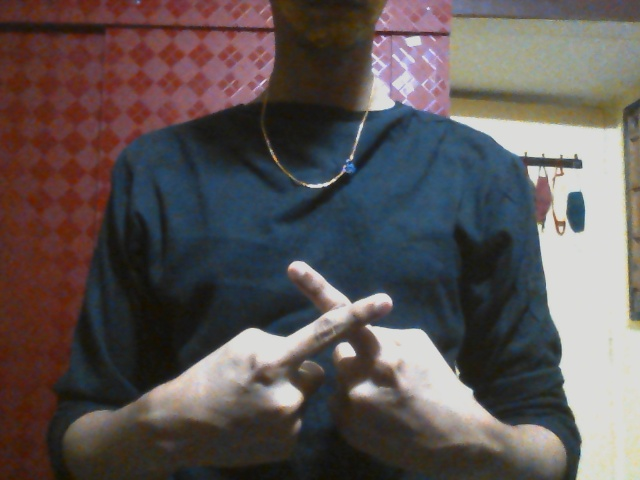X: (179, 259, 451, 470)
